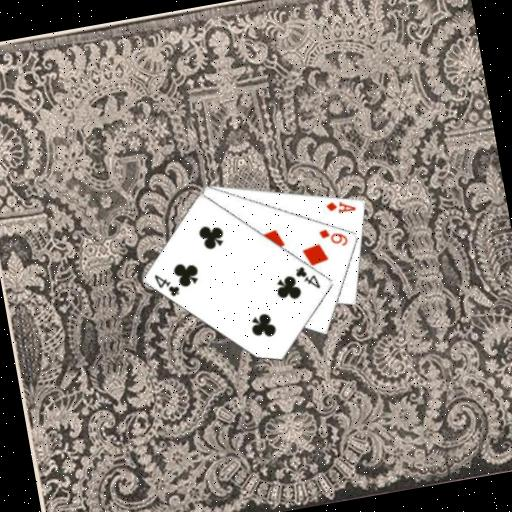4C: (291, 260, 323, 293), (151, 267, 183, 300)
6D: (314, 222, 350, 251)
AD: (322, 194, 358, 217)
